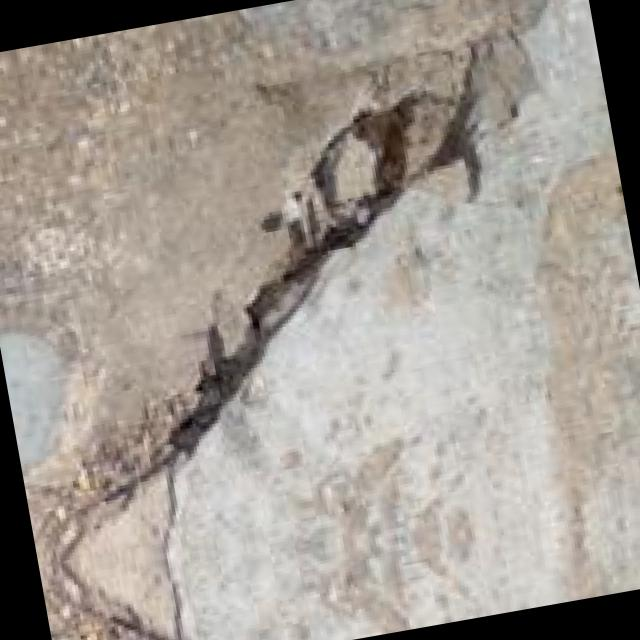crack: (0, 81, 578, 640)
